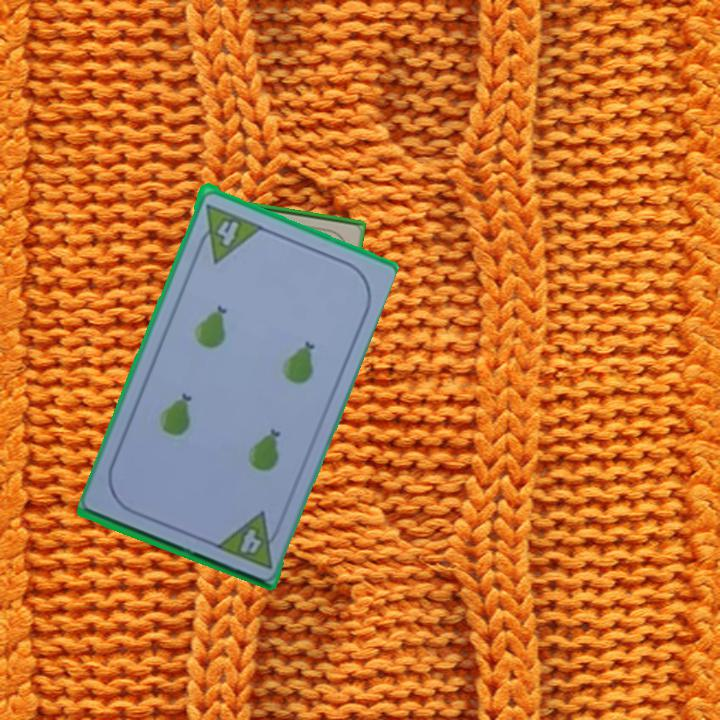4p: (191, 199, 264, 265), (212, 507, 287, 571)
